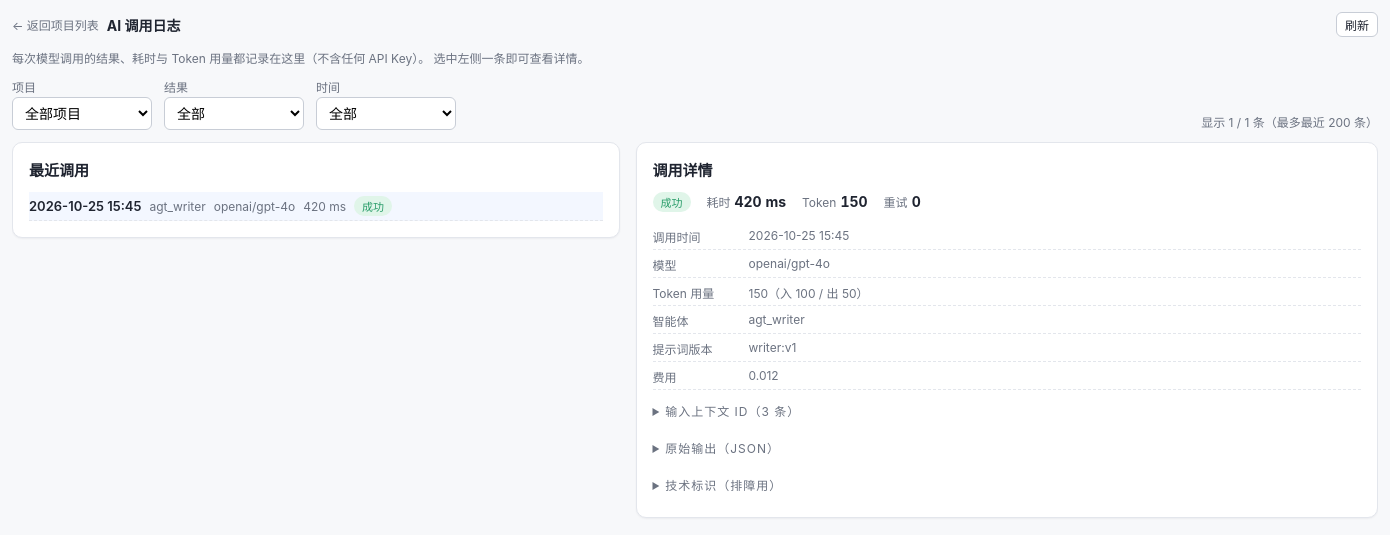
Test case: AiCallLogsPage › 过滤后无结果：空态提示可清空筛选，点击后恢复
expect the element with test id "ai-log-row-aic_001" is shown: met, box [29,192,602,221]
Select "失败" in the dropdown with test id "ai-logs-filter-result" at (234, 114), box [164,97,304,130]
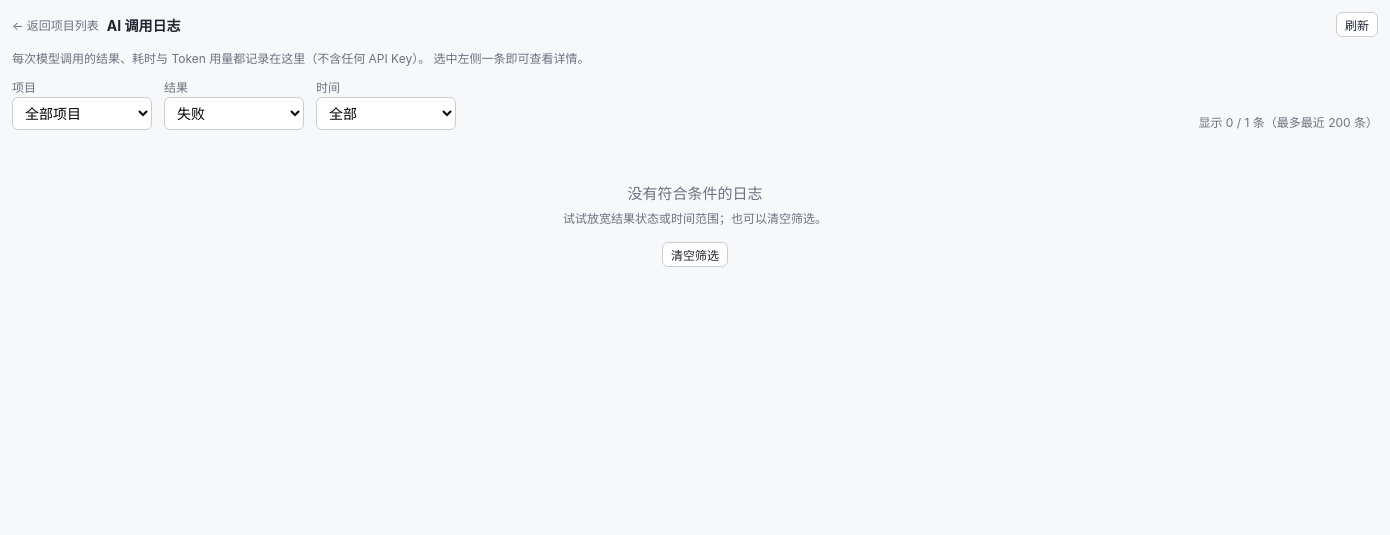
expect the text "没有符合条件的日志" is shown: met, box [628,184,762,203]
Click the button "清空筛选" at (695, 254), box [662,242,728,267]
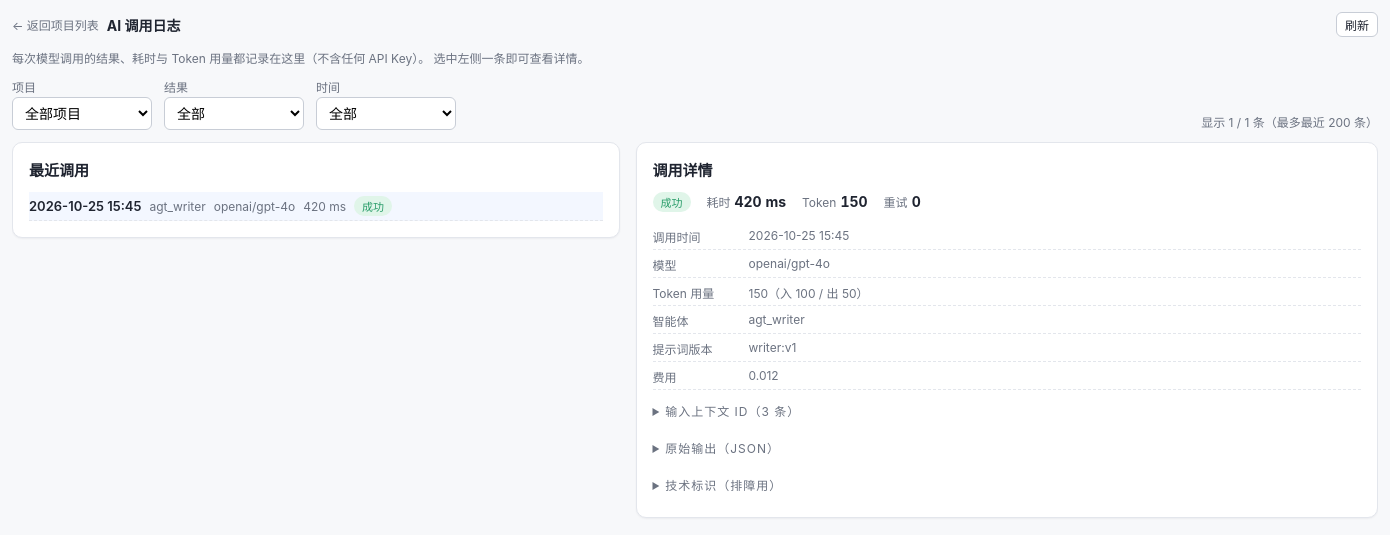
expect the element with test id "ai-log-row-aic_001" is shown: met, box [29,192,602,221]
